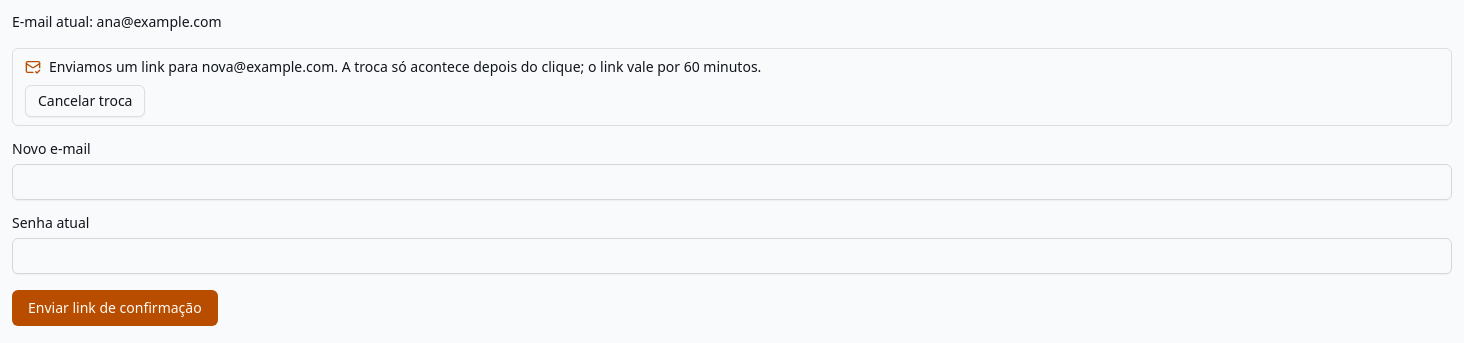
Scenario: EmailChangeForm › cancels a pending change
Click the button "Cancelar troca" at (85, 101), box 25,85 -> 146,117
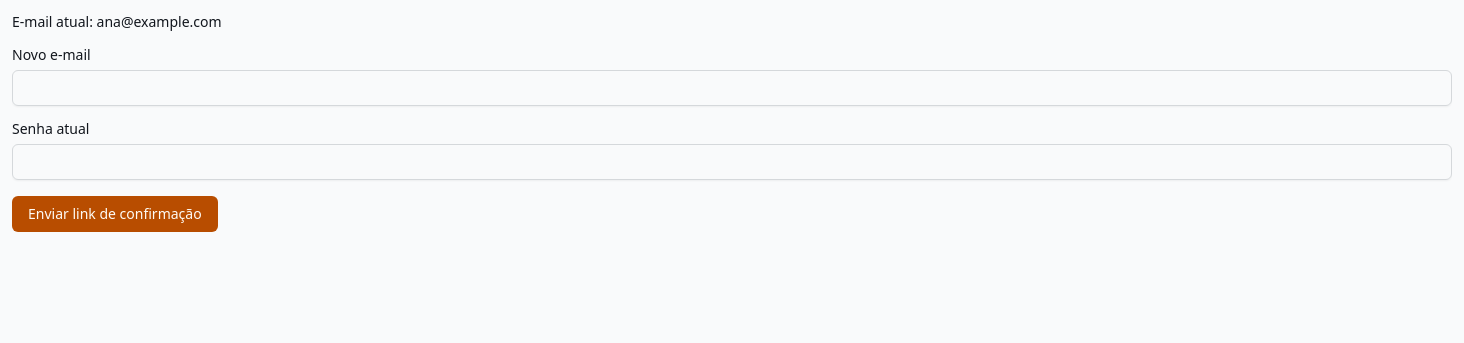
Result: the text "Enviamos um link" is gone
